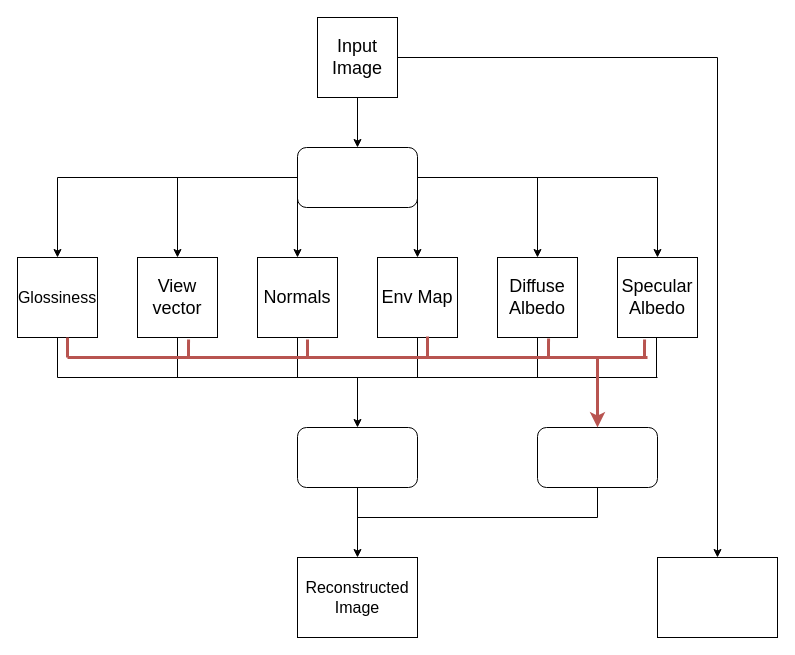
The diagram is 795 pixels wide and 655 high, and some of its shapes have lost their labels. The box of each missing label's shape, as (x1, y1, x2, y2) in pixels:
Direct Renderer: (536, 426, 658, 488)
IRN: (296, 146, 418, 208)
MSN: (656, 556, 778, 638)
RAR: (296, 426, 418, 488)
